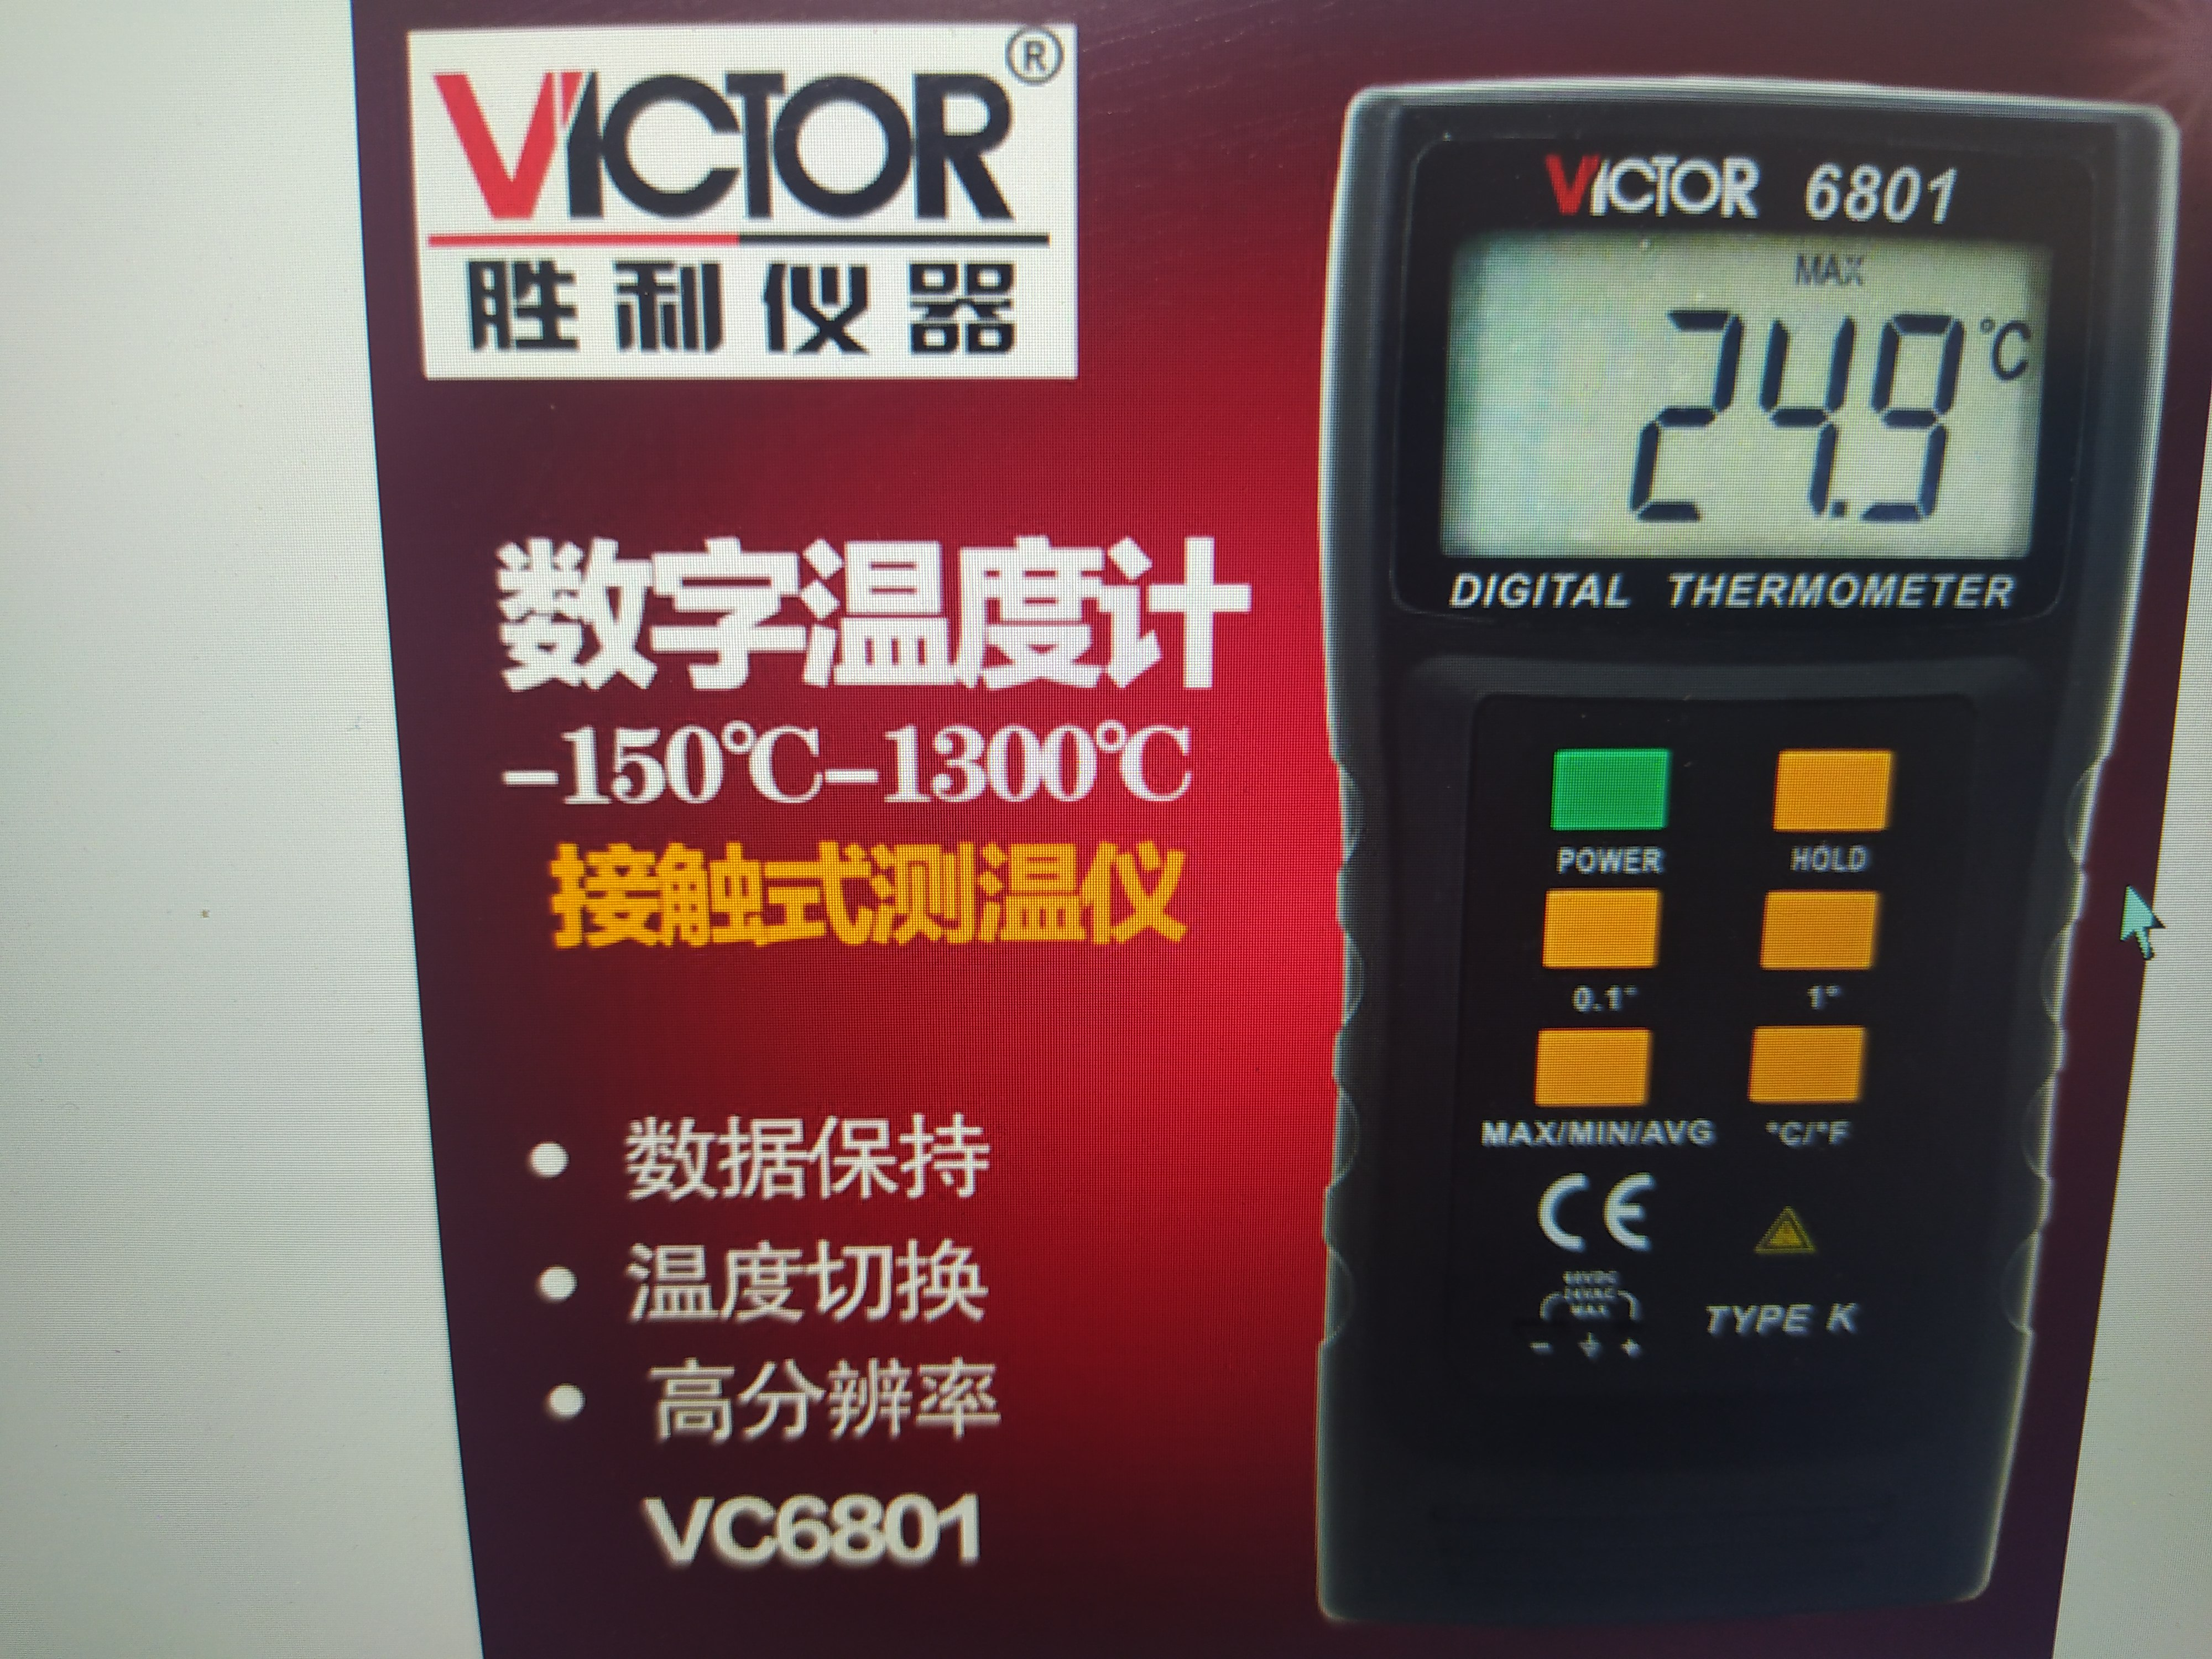.: (1831, 321, 1853, 518), (1590, 986, 1604, 1014)
0: (660, 718, 723, 802), (1040, 723, 1097, 805), (984, 725, 1042, 803), (883, 1492, 939, 1561), (1886, 167, 1925, 225), (1571, 985, 1592, 1012)
1: (557, 723, 613, 812), (878, 725, 932, 812), (935, 1492, 984, 1565), (1926, 164, 1963, 227), (1602, 985, 1623, 1016), (1803, 981, 1825, 1009)
2: (1635, 310, 1745, 526)
3: (932, 723, 988, 803)
4: (1756, 315, 1843, 518)
5: (608, 721, 664, 802)
6: (777, 1492, 831, 1568), (1803, 160, 1836, 221)
8: (833, 1486, 887, 1568), (1844, 162, 1881, 227)
9: (1869, 312, 1968, 525)
